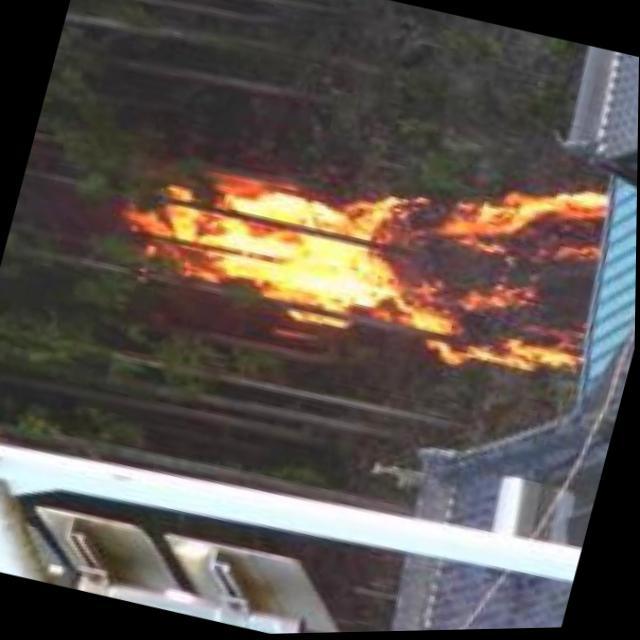Fire: (118, 87, 623, 404)
